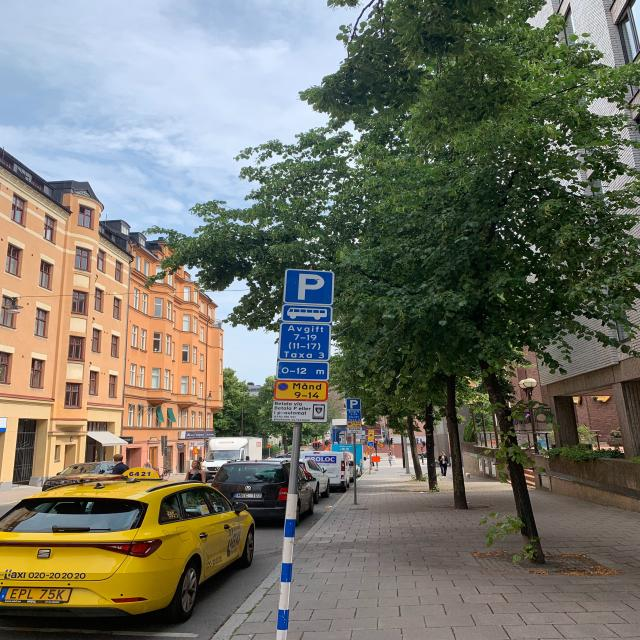psign: (284, 269, 334, 306), (346, 399, 361, 410)
